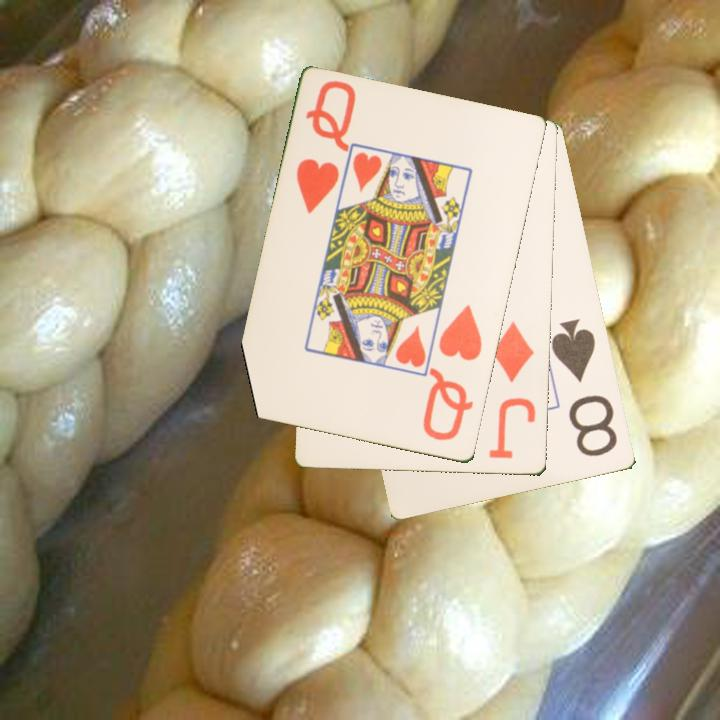8s: (548, 316, 621, 460)
Jd: (485, 318, 539, 462)
Qh: (419, 302, 486, 444), (293, 77, 359, 218)
